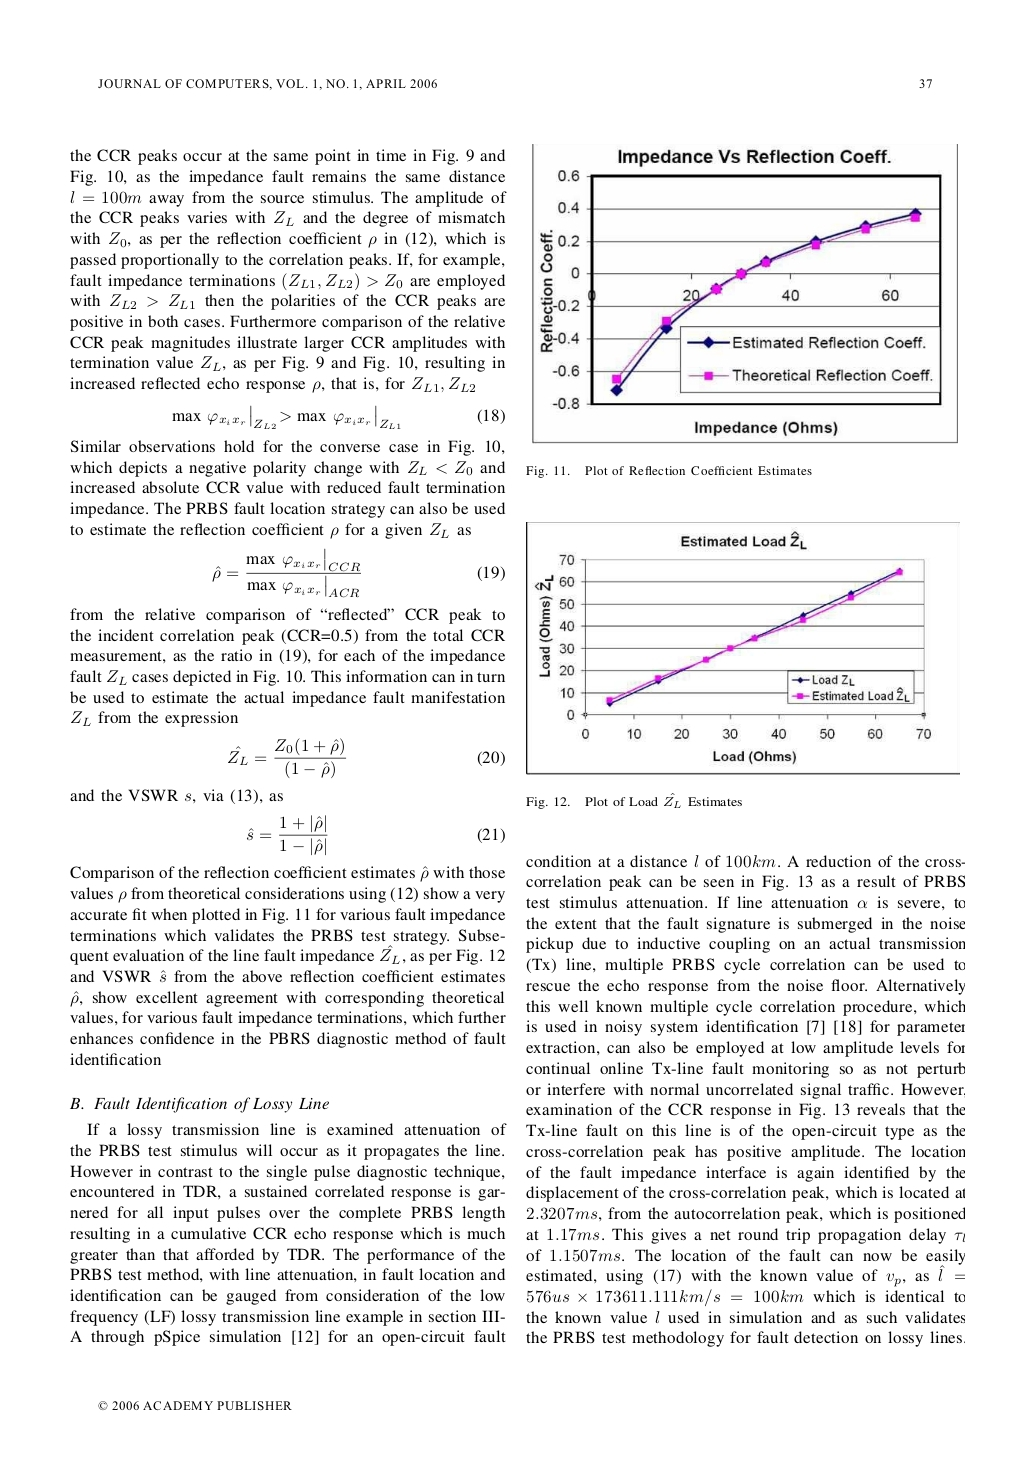figure: (532, 143, 957, 444), (526, 521, 958, 775)
formula: (212, 547, 504, 598), (228, 737, 504, 779), (247, 814, 504, 856), (172, 404, 504, 429)
